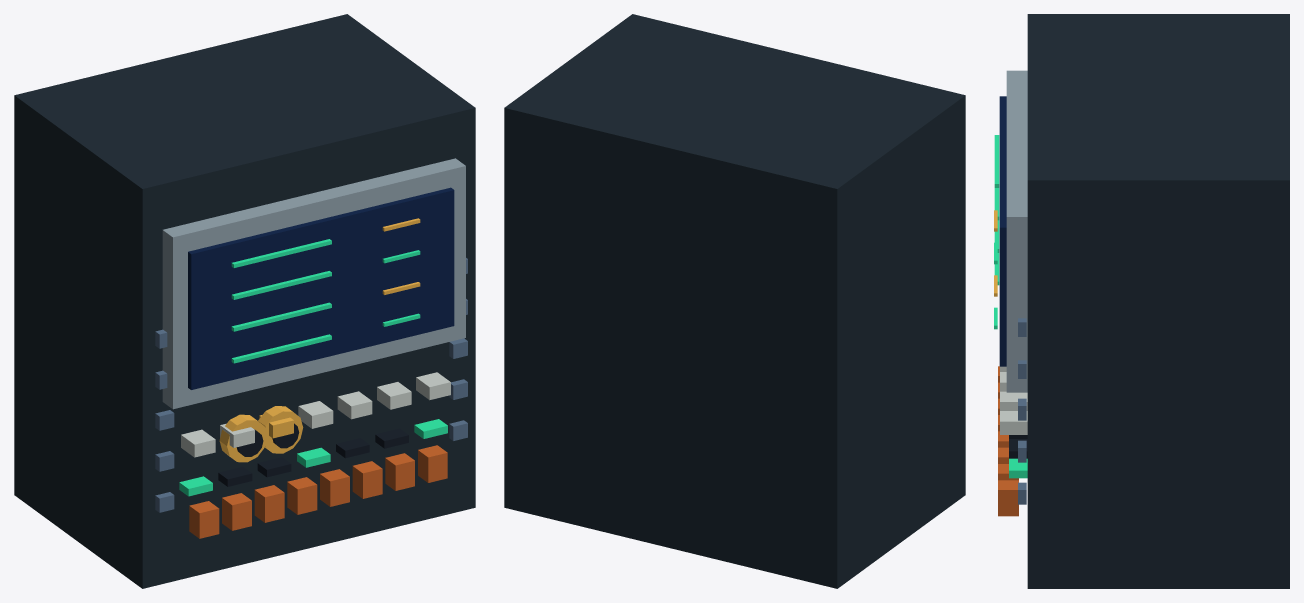
File: 25_L84_ReactionWheelThermalControlModule.fbx
3 views of the same model, side by side, from view 1: azimuth 30°, elevation 25°; view 2: azimuth 150°, elevation 25°; view 3: azimuth 270°, elevation 25° (orthographic). The views are drawn at different scales.
Visible parts, largest first — view 1: L84_ReactionWheelThermalControlModule, L84_ReactionWheelThermalControlModule_Part_0010, L84_ReactionWheelThermalControlModule_Part_0012; view 2: L84_ReactionWheelThermalControlModule; view 3: L84_ReactionWheelThermalControlModule.
Boxes of the visible parts, left/top/right/bottom form: L84_ReactionWheelThermalControlModule: left=14, top=14, right=475, bottom=588; L84_ReactionWheelThermalControlModule_Part_0010: left=219, top=414, right=266, bottom=462; L84_ReactionWheelThermalControlModule_Part_0012: left=258, top=406, right=303, bottom=453; L84_ReactionWheelThermalControlModule: left=504, top=14, right=965, bottom=588; L84_ReactionWheelThermalControlModule: left=994, top=14, right=1289, bottom=588.
Bounding box in the file's own units: 107 × 123 × 80.59.
